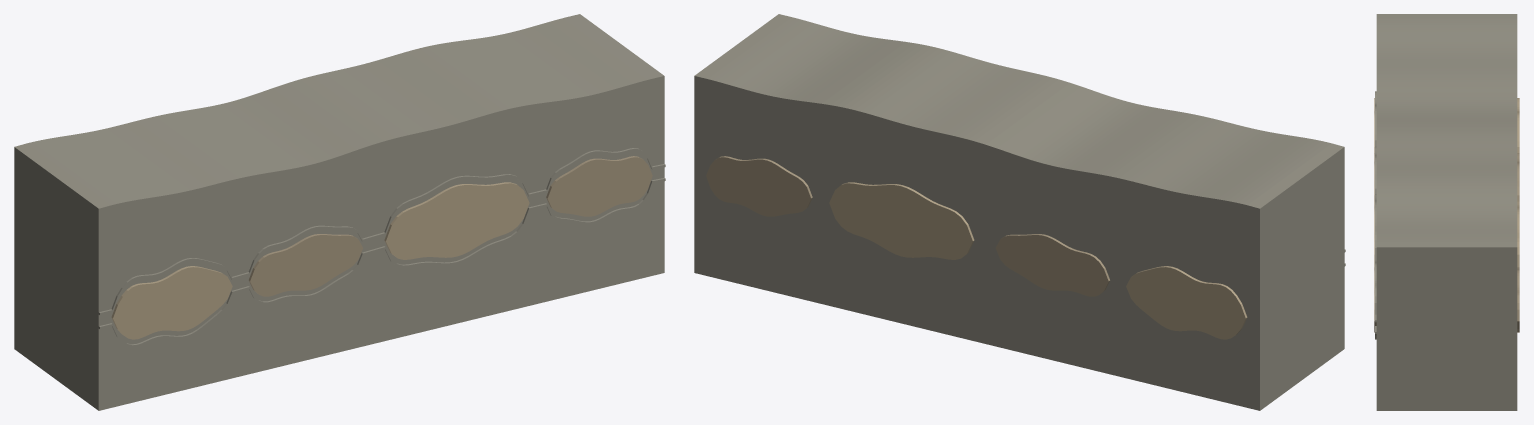
Rendered from boudinaged-rock-layer.glb.
The picture shows the model from 3 angles, left to right: view 1: azimuth 30°, elevation 25°; view 2: azimuth 150°, elevation 25°; view 3: azimuth 270°, elevation 25°; orthographic projection. The views are drawn at different scales.
Parts seen in each view (by area): view 1: Continuous enclosing matrix with filled inter-lens necks, Four unequal elongated boudin lenses, Continuous matrix foliation around necked layer; view 2: Continuous enclosing matrix with filled inter-lens necks, Four unequal elongated boudin lenses; view 3: Continuous enclosing matrix with filled inter-lens necks, Four unequal elongated boudin lenses, Continuous matrix foliation around necked layer.
Boxes of the visible parts, box(x1,y1,x2,y2) form: Continuous enclosing matrix with filled inter-lens necks: box(14, 14, 664, 410); Four unequal elongated boudin lenses: box(111, 156, 652, 339); Continuous matrix foliation around necked layer: box(98, 148, 665, 347); Continuous enclosing matrix with filled inter-lens necks: box(694, 14, 1344, 410); Four unequal elongated boudin lenses: box(706, 156, 1247, 339); Continuous enclosing matrix with filled inter-lens necks: box(1376, 14, 1517, 410); Four unequal elongated boudin lenses: box(1374, 98, 1519, 332); Continuous matrix foliation around necked layer: box(1375, 91, 1376, 339).
Size of the model in its own units: 0.85 by 0.2909 by 0.228.
